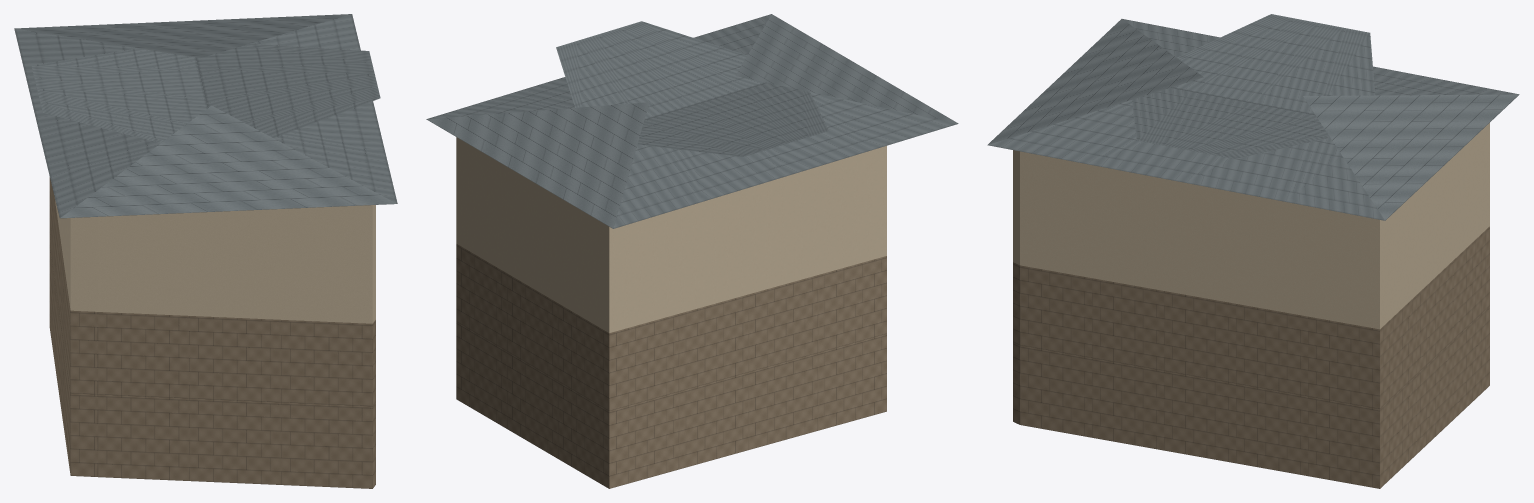
File: bld_c42_31_268.gltf
The picture shows the model from 3 angles, left to right: view 1: azimuth 30°, elevation 25°; view 2: azimuth 150°, elevation 25°; view 3: azimuth 270°, elevation 25°; orthographic projection. The views are drawn at different scales.
Visible parts, largest first — view 1: bld_c42_31_268; view 2: bld_c42_31_268; view 3: bld_c42_31_268.
Boxes of the visible parts, x1,y1,x2,y2 form: bld_c42_31_268: (14, 14, 397, 488); bld_c42_31_268: (426, 14, 958, 488); bld_c42_31_268: (987, 14, 1519, 488).
Bounding box in the file's own units: 13.07 × 9.5 × 14.55.
Materials: 3 (3 with a texture image).
